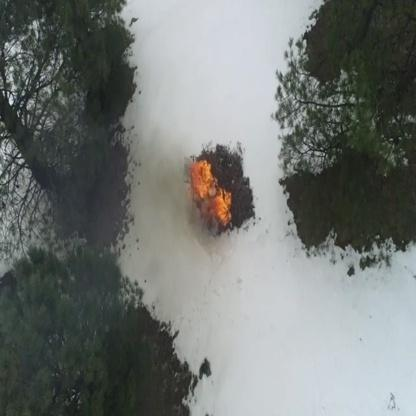Fire: (209, 192, 231, 224), (195, 161, 211, 197), (188, 167, 208, 181), (212, 178, 218, 186)
